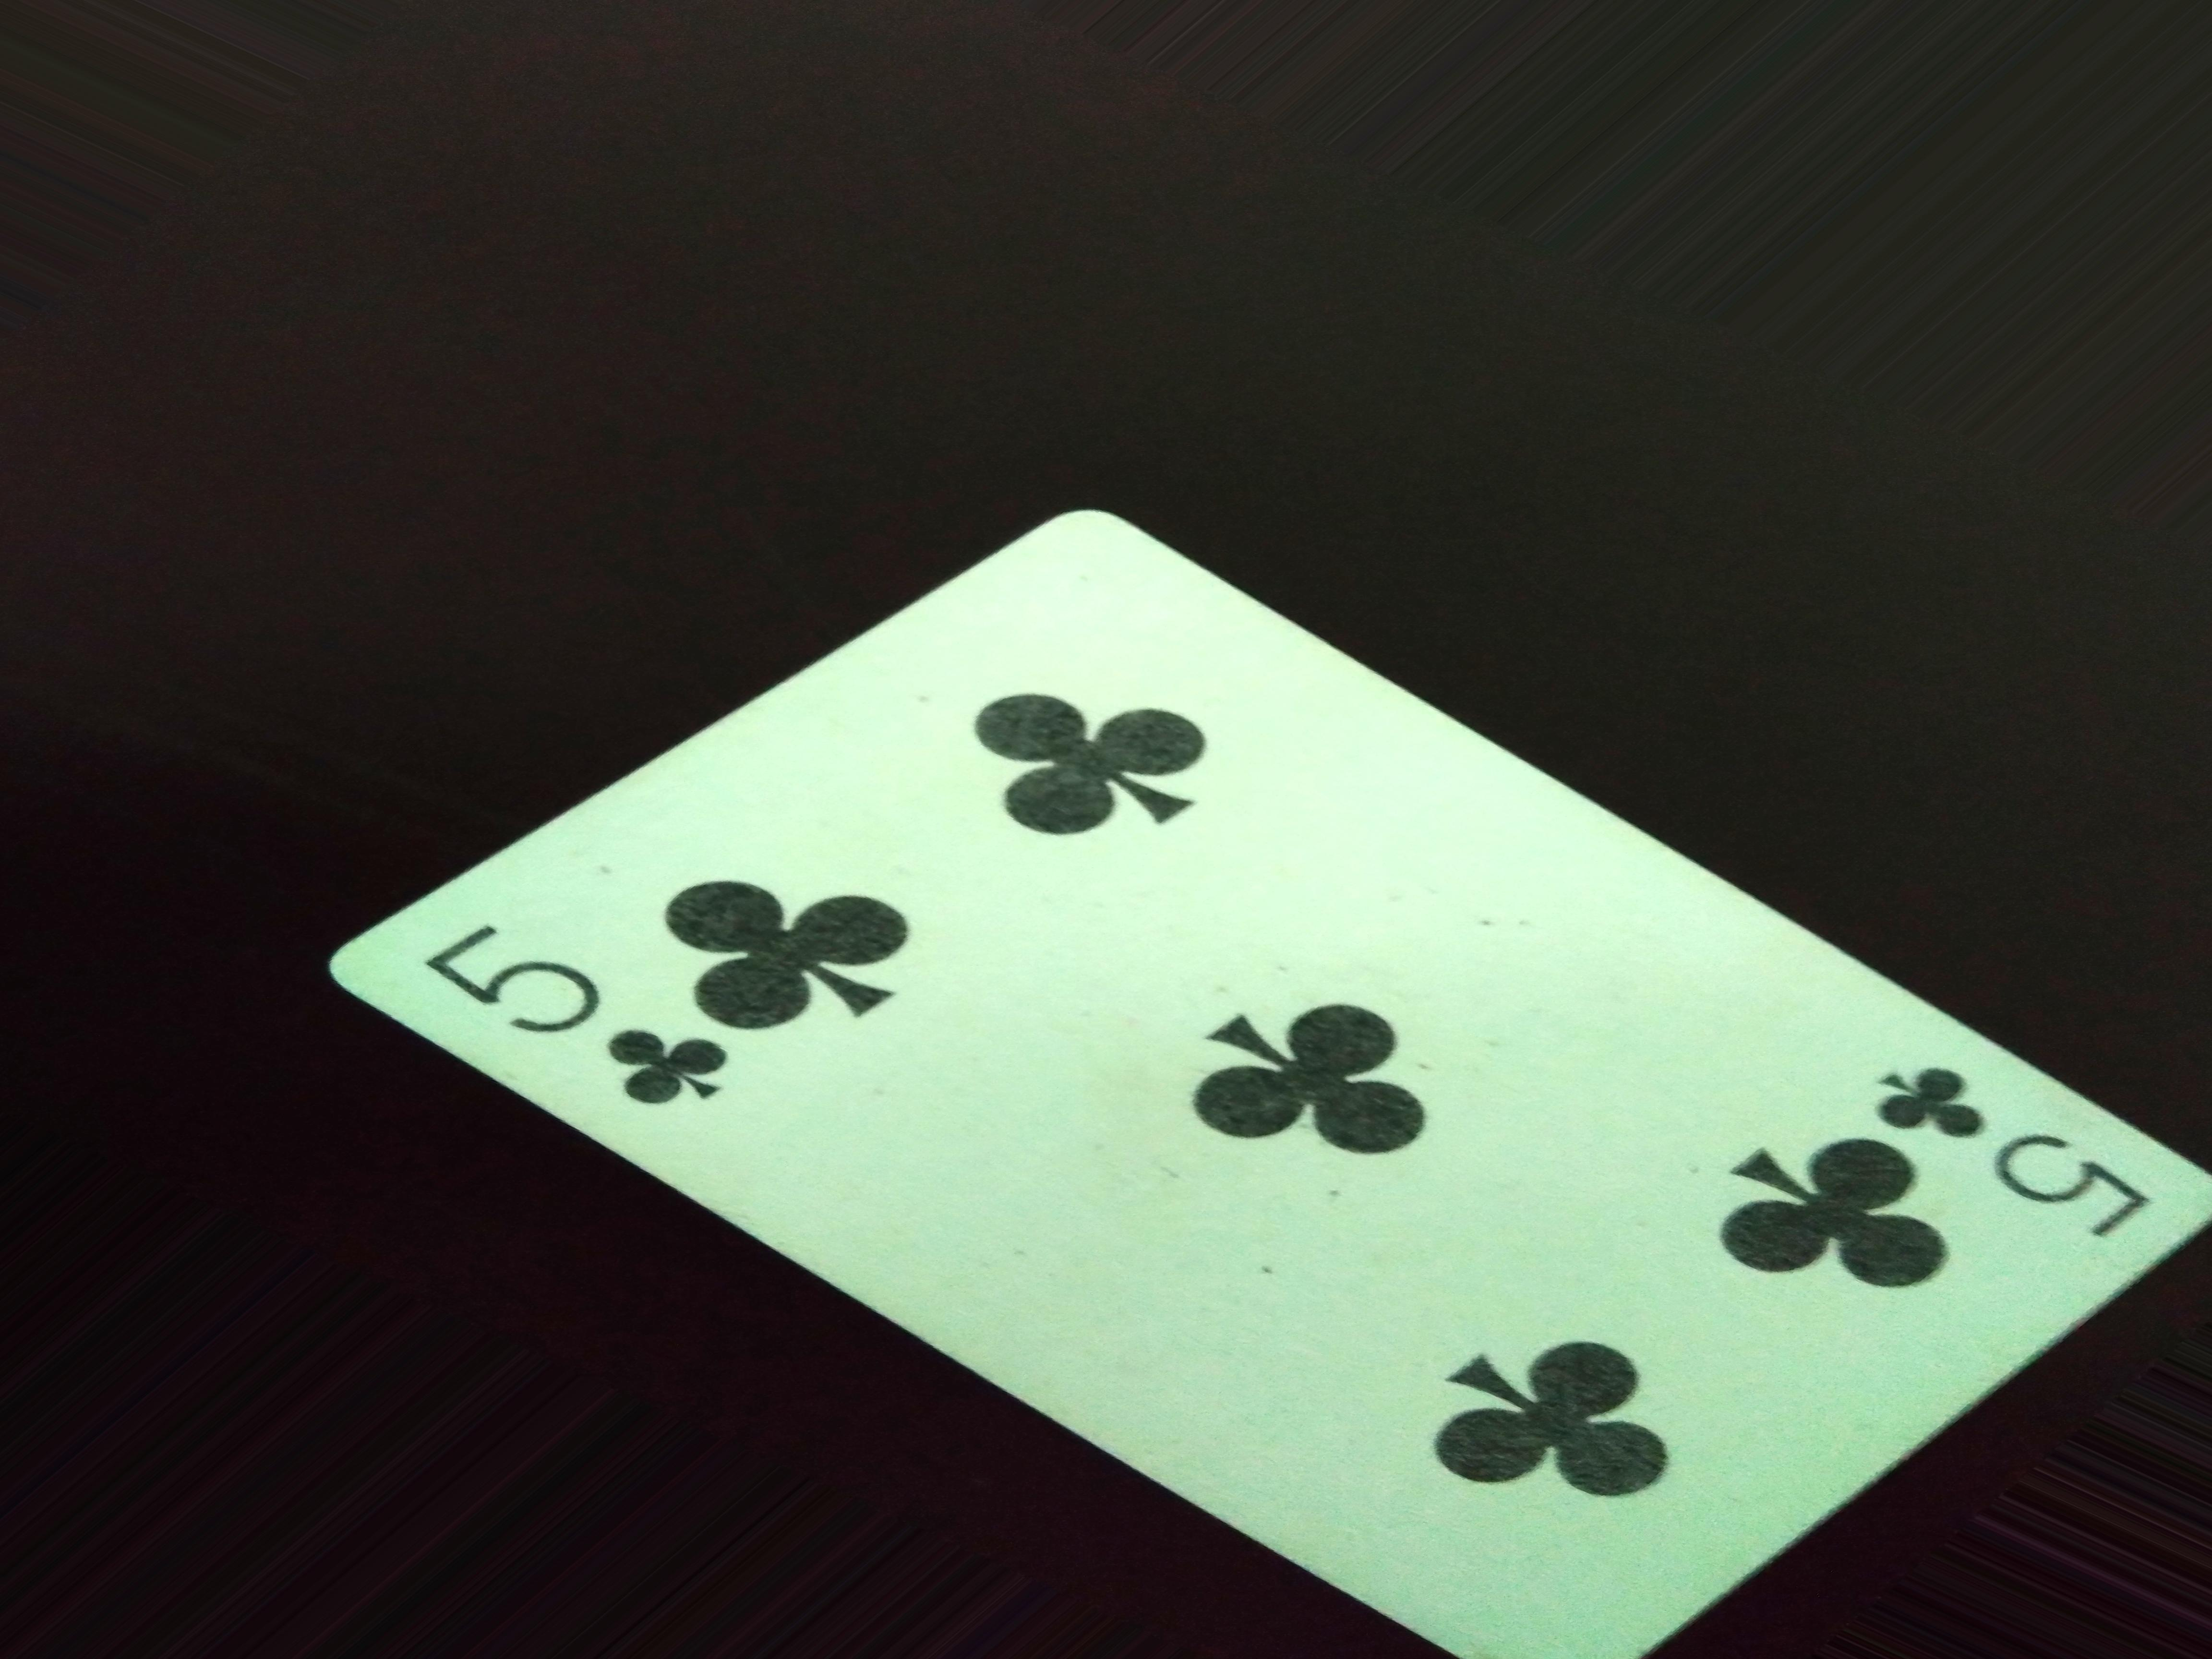5C: (1878, 1053, 2148, 1246)
